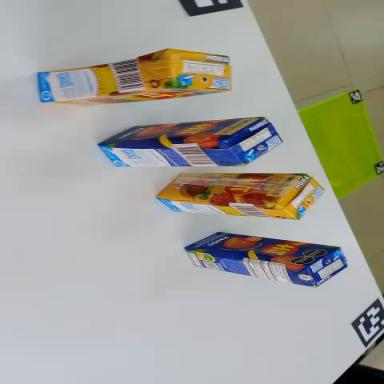HIT-MANGO: (182, 227, 349, 291), (98, 116, 282, 170)
HIT-MORA: (36, 44, 231, 109), (157, 173, 323, 219)
cara_F: (44, 82, 228, 111), (156, 173, 306, 205), (97, 117, 266, 145)
